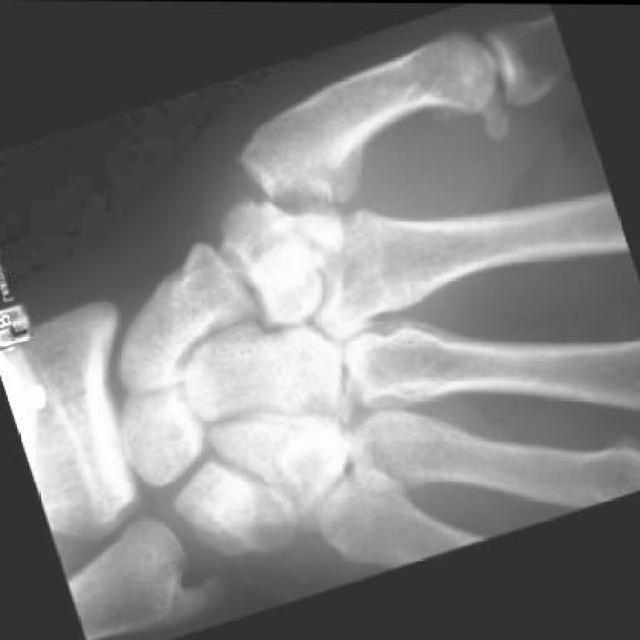Fracture: (263, 102, 396, 221)
